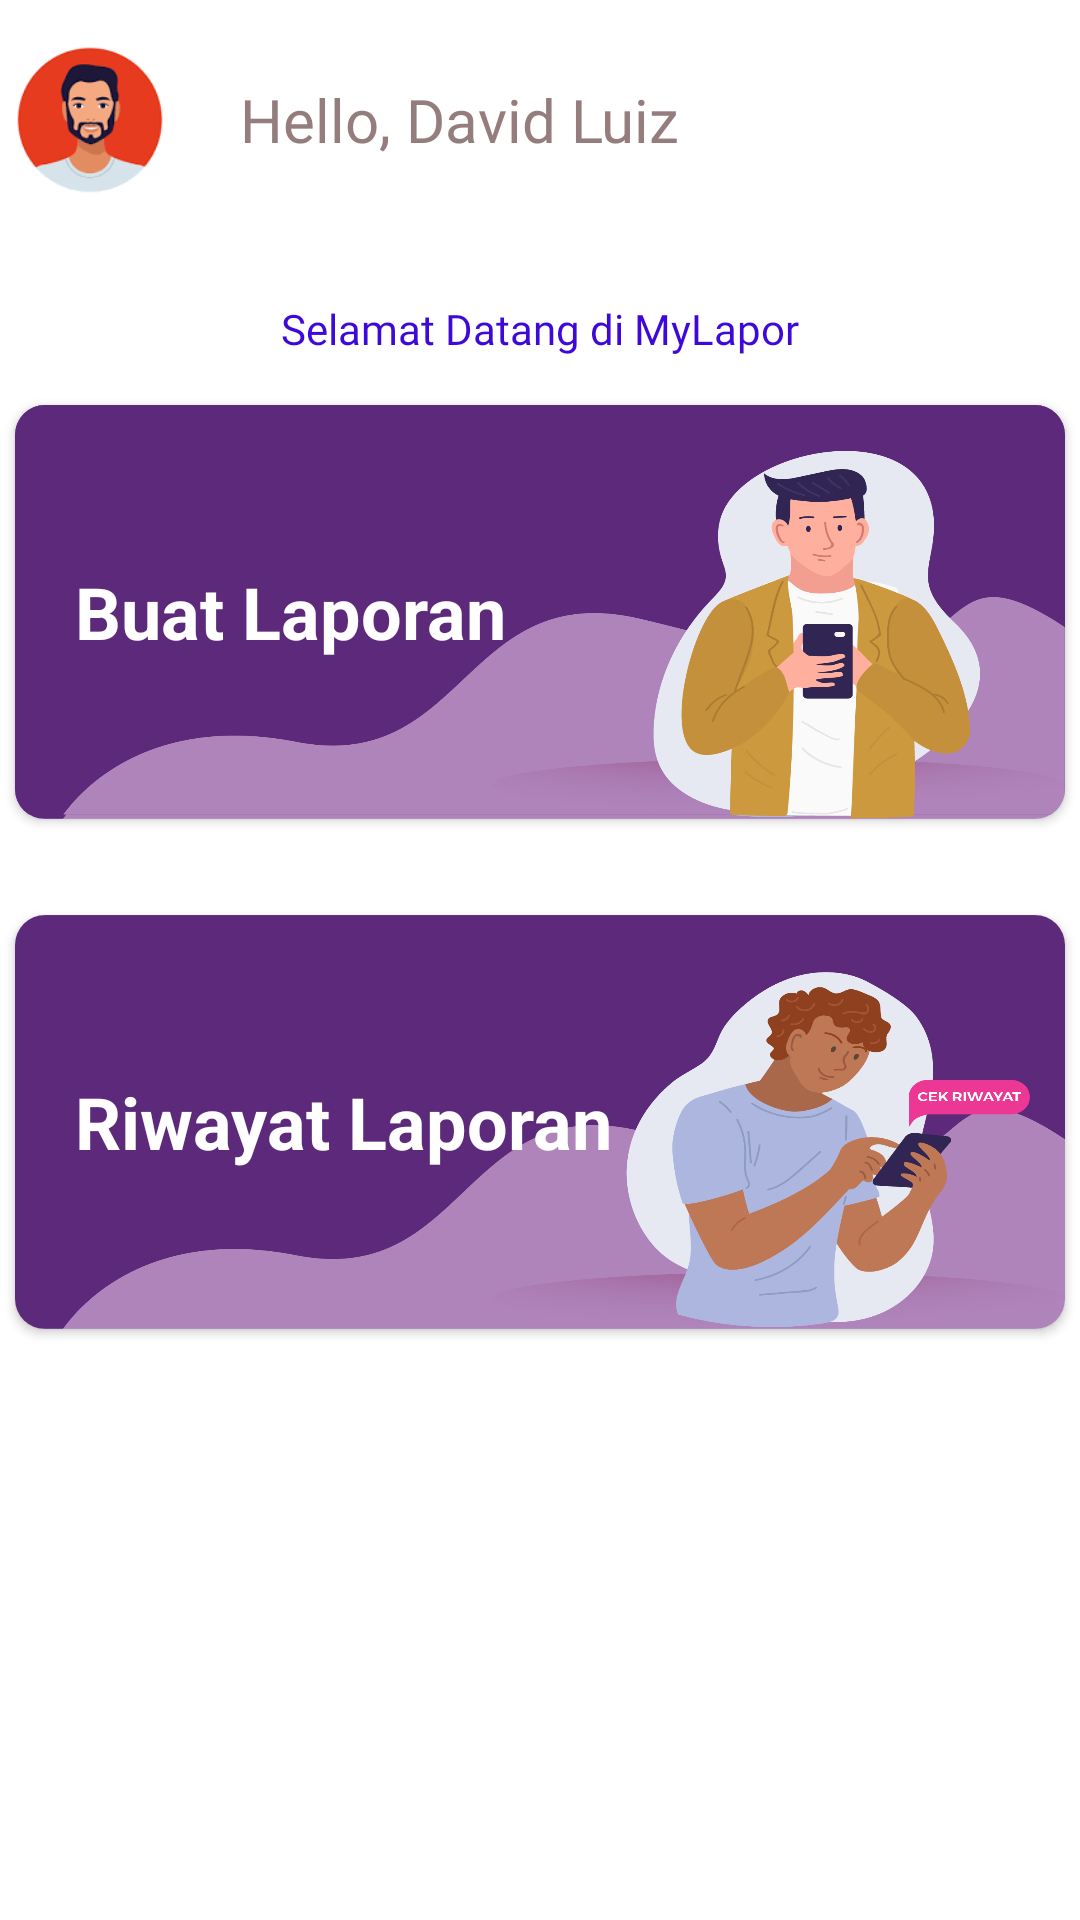

Named icons in this screenshot (1080×1920) and their centers, point (x, y):
profile photo: point (90, 119)
